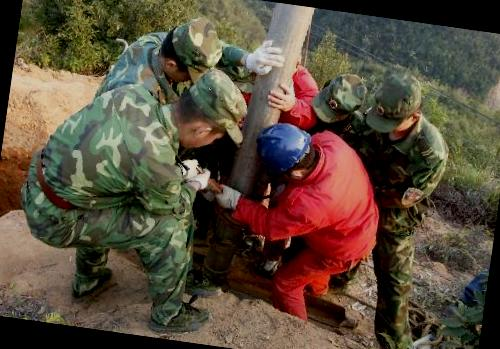no_helmet: (165, 61, 252, 156), (154, 11, 228, 90), (371, 64, 432, 152), (310, 66, 367, 132)
